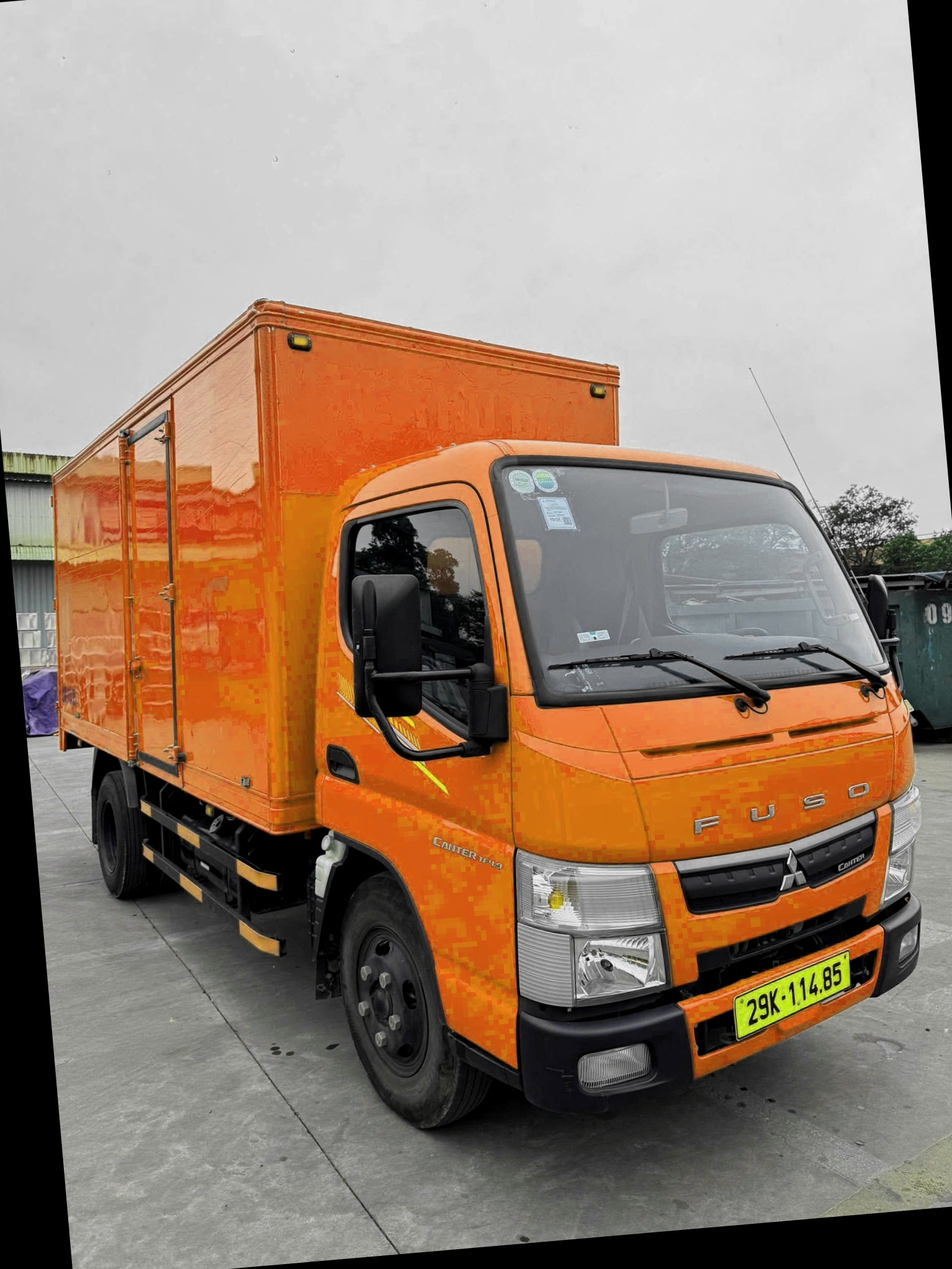Bien-so: (655, 990, 771, 1071)
